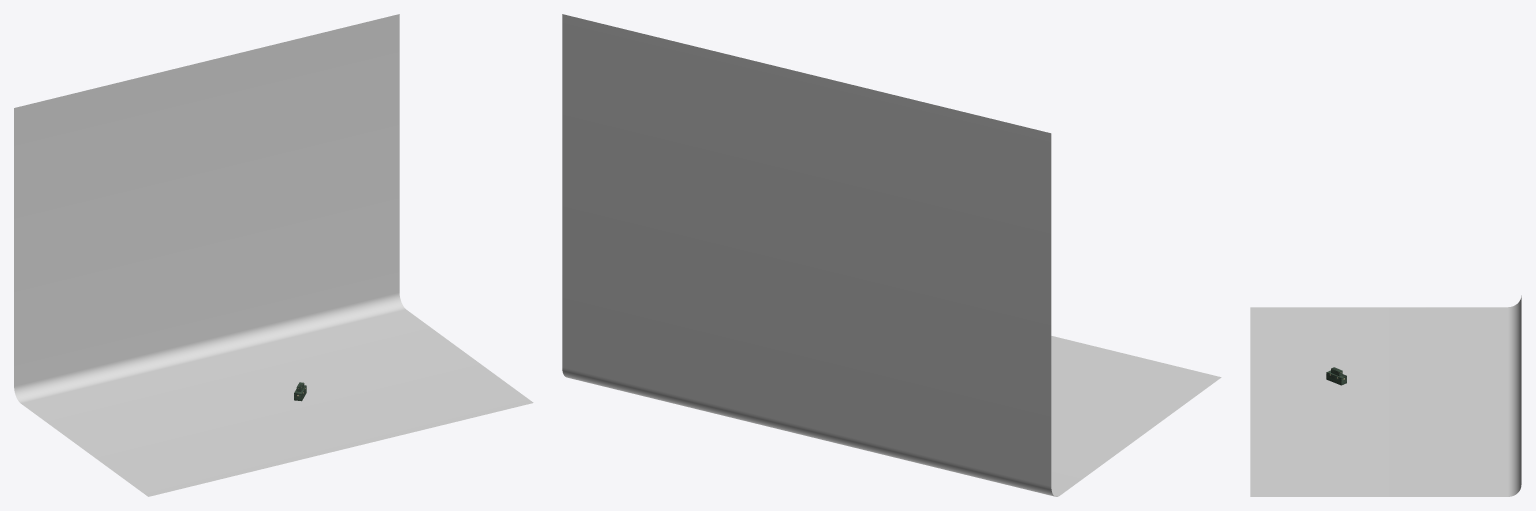
File: Fancy Modern Chest.fbx
3 renders of one model, left to right at view 1: azimuth 30°, elevation 25°; view 2: azimuth 150°, elevation 25°; view 3: azimuth 270°, elevation 25°, orthographic. The views are drawn at different scales.
Parts seen in each view (by area): view 1: Studio; view 2: Studio; view 3: Studio.
Boxes of the visible parts, left/top/right/bottom form: Studio: left=14, top=14, right=533, bottom=496; Studio: left=562, top=14, right=1221, bottom=496; Studio: left=1250, top=295, right=1521, bottom=496.
Bounding box in the file's own units: 2165 × 1559 × 1306.
